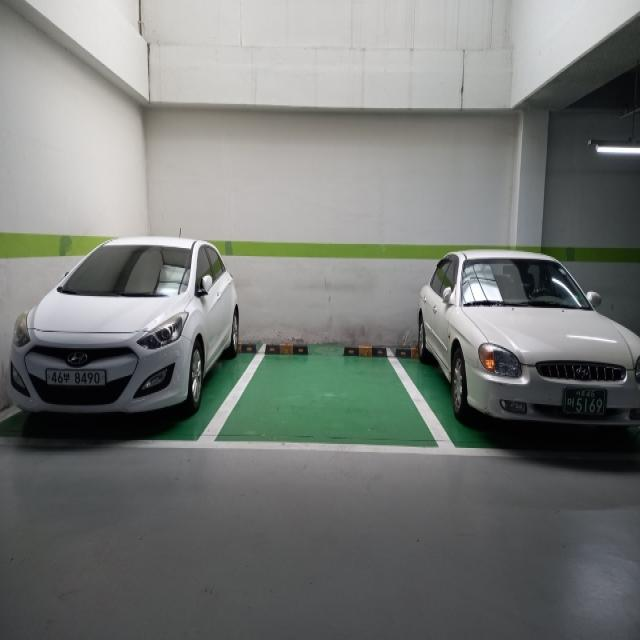empty: (216, 354, 444, 452)
occupied: (5, 240, 247, 448), (415, 253, 640, 458)
